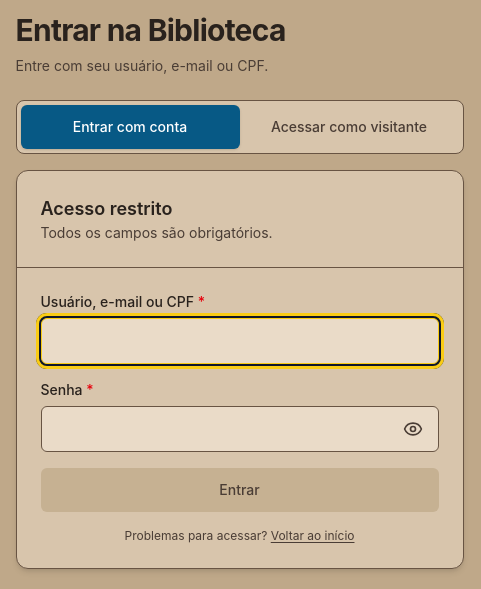
Test: Guest school autocomplete › switches modes without reloading and moves focus to the relevant first field
The width and height of the screenshot is (481, 589).
Click the tab "Acessar como visitante". click: (349, 127)
box: x1=240 y1=105 x2=458 y2=149
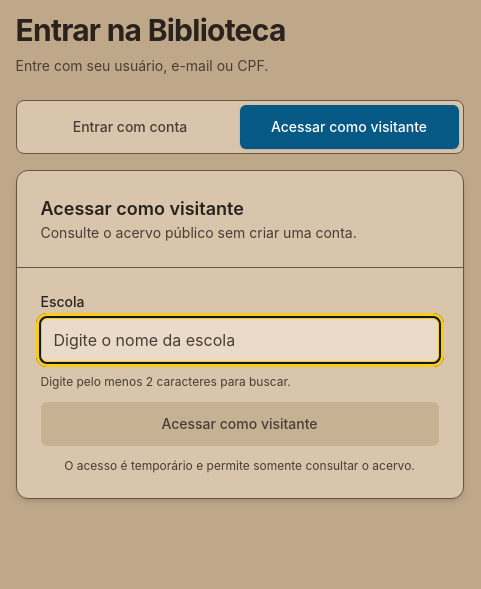
Click the tab "Entrar com conta". click: (130, 127)
box: x1=20 y1=105 x2=240 y2=149
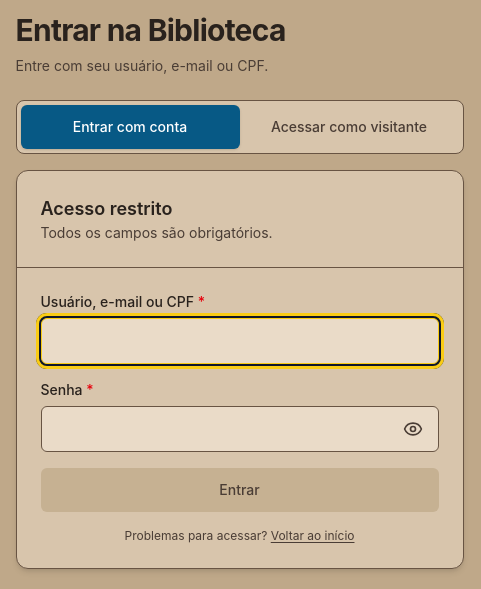
Expected: the label "Escola" is gone
